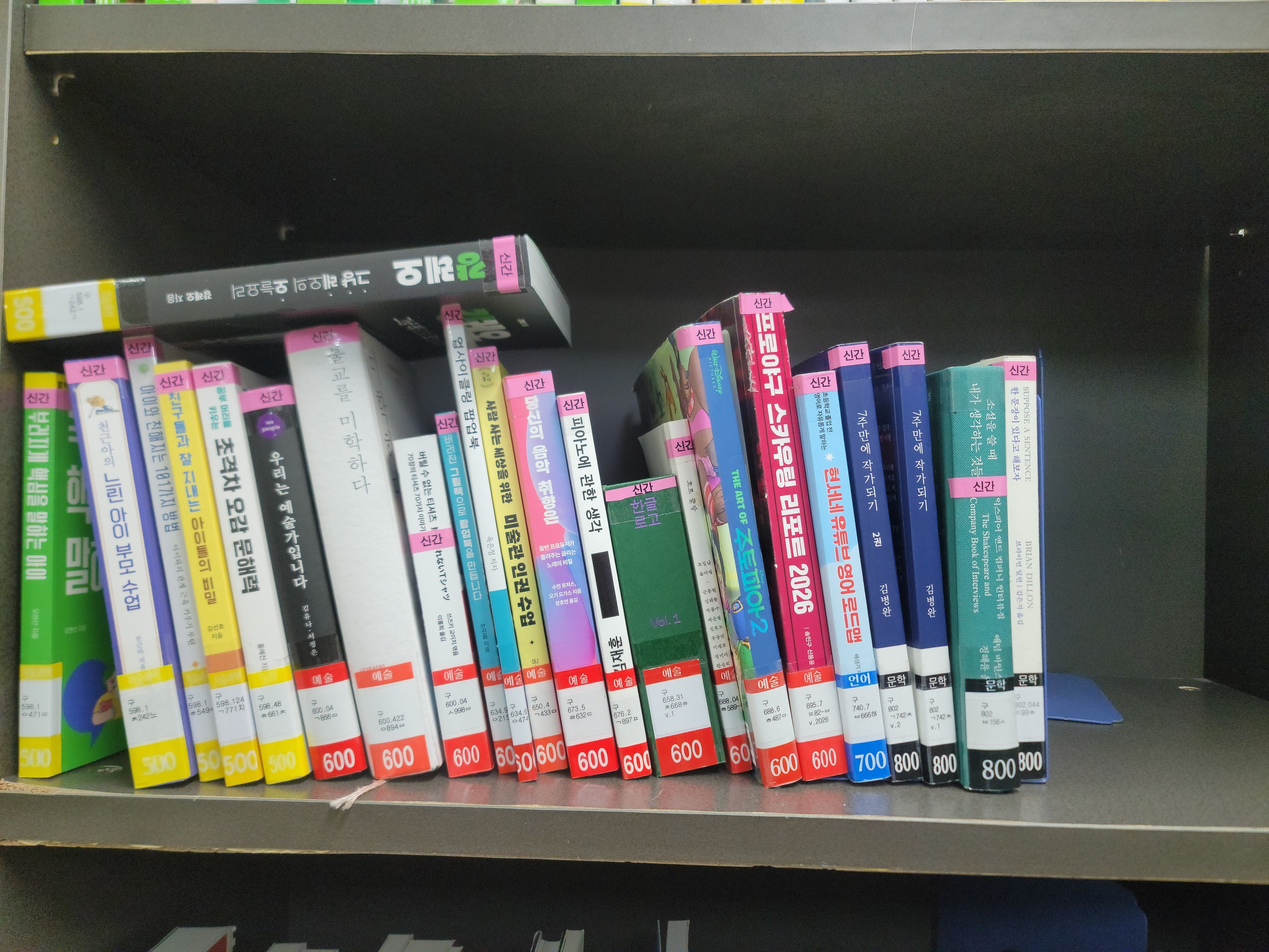book-spine: (281, 318, 441, 782), (0, 234, 533, 343), (63, 351, 192, 790), (737, 295, 850, 783), (238, 382, 369, 783), (691, 322, 803, 789), (189, 364, 309, 787), (503, 367, 621, 781), (440, 304, 540, 783), (153, 361, 263, 788), (122, 336, 226, 784), (468, 346, 570, 780), (796, 367, 891, 784), (835, 345, 925, 784), (556, 389, 655, 781), (603, 472, 728, 781), (392, 431, 495, 780), (666, 419, 757, 781), (433, 408, 519, 780), (945, 365, 1016, 791), (893, 344, 961, 786), (1000, 356, 1048, 783), (18, 374, 56, 778)
